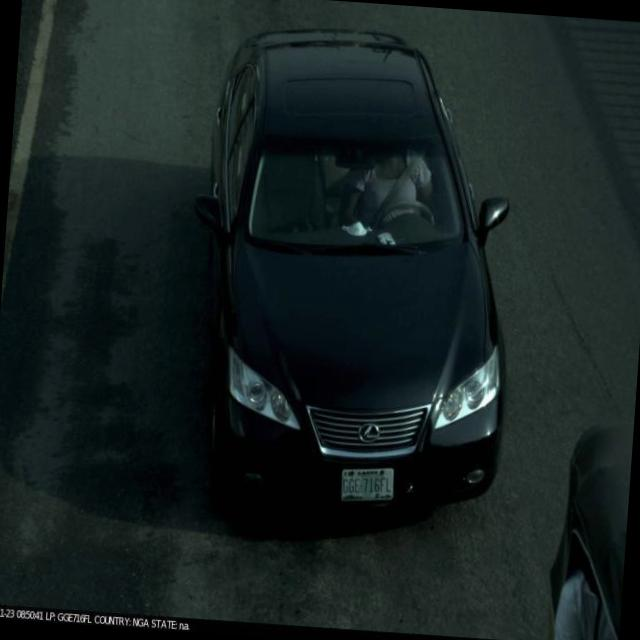person_with_seatbelt: (349, 138, 444, 247)
